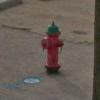Hydrant: (33, 10, 74, 84)
